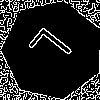L: (27, 25, 82, 75)
